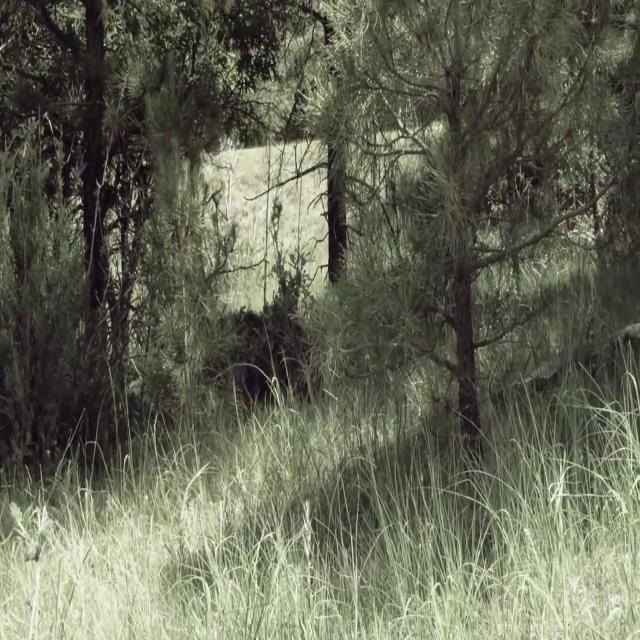Camouflage: (189, 313, 321, 406)
